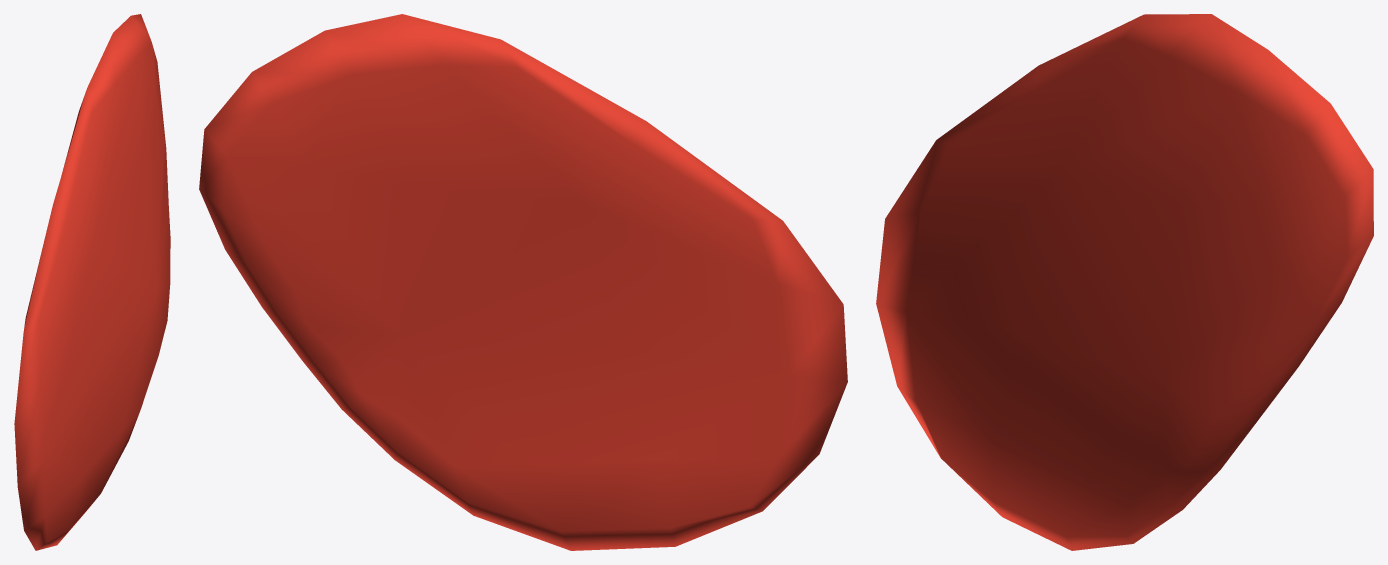
The model's file is Zygomaticus_minor_muscle_on_zygomatic_bone.l_Generated_Mesh_Fro.glb.
3 renders of one model, left to right at view 1: azimuth 30°, elevation 25°; view 2: azimuth 150°, elevation 25°; view 3: azimuth 270°, elevation 25°, orthographic. The views are drawn at different scales.
Parts seen in each view (by area): view 1: Zygomaticus_minor_muscle_on_zygomatic_bone.l_Generated_Mesh_; view 2: Zygomaticus_minor_muscle_on_zygomatic_bone.l_Generated_Mesh_; view 3: Zygomaticus_minor_muscle_on_zygomatic_bone.l_Generated_Mesh_.
Boxes of the visible parts, x1,y1,x2,y2 form: Zygomaticus_minor_muscle_on_zygomatic_bone.l_Generated_Mesh_: (14, 14, 170, 550); Zygomaticus_minor_muscle_on_zygomatic_bone.l_Generated_Mesh_: (199, 14, 847, 550); Zygomaticus_minor_muscle_on_zygomatic_bone.l_Generated_Mesh_: (876, 14, 1373, 550).
Size of the model in its own units: 0.0061 by 0.00793 by 0.00604.
